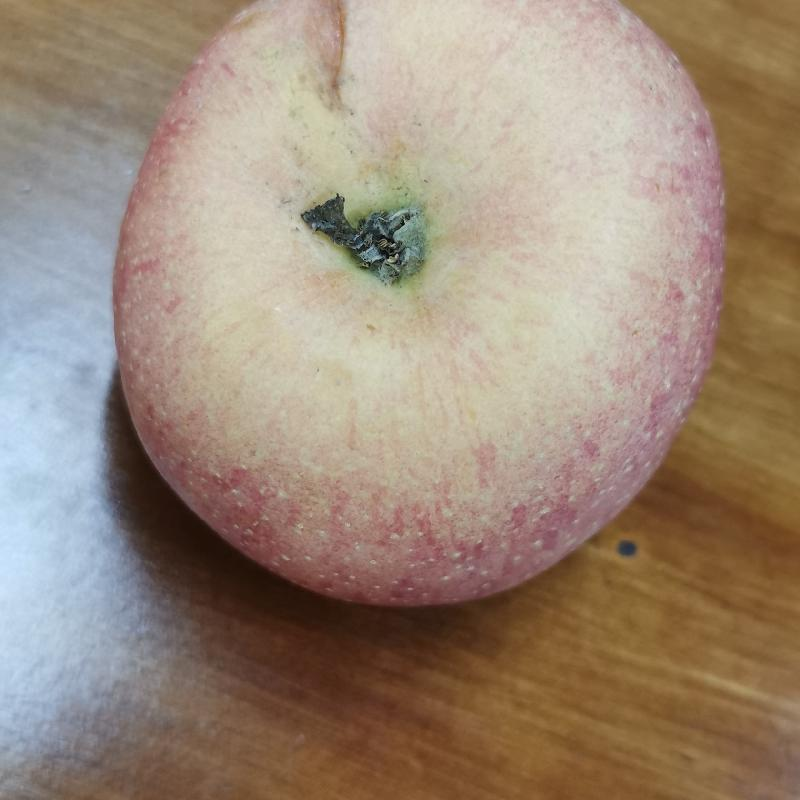apples: (113, 3, 729, 601)
